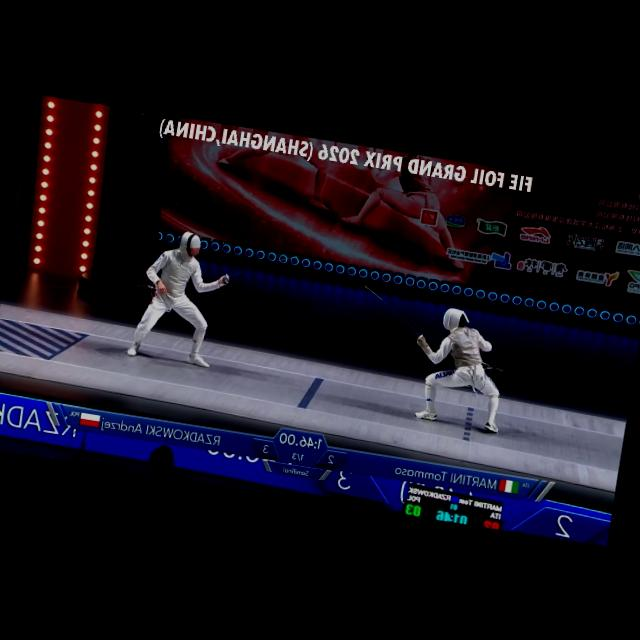blade: (353, 281, 437, 346), (218, 243, 300, 295)
